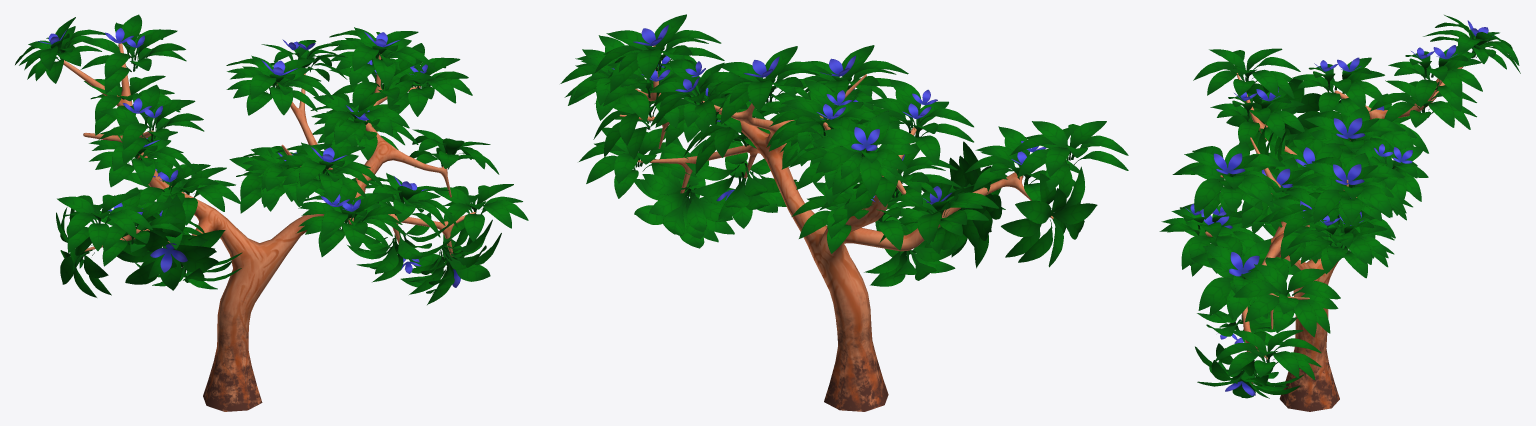
The model's file is Tree.fbx.
3 renders of one model, left to right at view 1: azimuth 30°, elevation 25°; view 2: azimuth 150°, elevation 25°; view 3: azimuth 270°, elevation 25°, orthographic. The views are drawn at different scales.
Parts seen in each view (by area): view 1: Tree; view 2: Tree; view 3: Tree.
Boxes of the visible parts, x1,y1,x2,y2 form: Tree: [15, 14, 528, 411]; Tree: [560, 14, 1128, 411]; Tree: [1159, 15, 1520, 411].
Size of the model in its own units: 1607 by 1088 by 1060.
2 materials, 2 textured.
